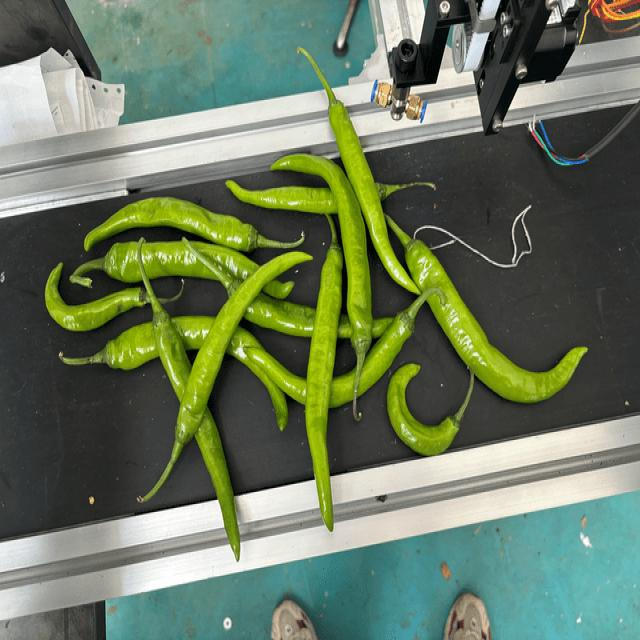chili: (402, 237, 590, 405), (174, 252, 318, 446), (101, 314, 290, 439), (153, 307, 242, 567), (267, 149, 375, 359), (327, 96, 424, 297), (242, 309, 414, 409), (306, 245, 347, 535), (103, 239, 296, 299), (226, 277, 395, 341), (83, 194, 262, 254), (44, 258, 149, 336), (383, 361, 461, 457), (221, 178, 389, 214)
